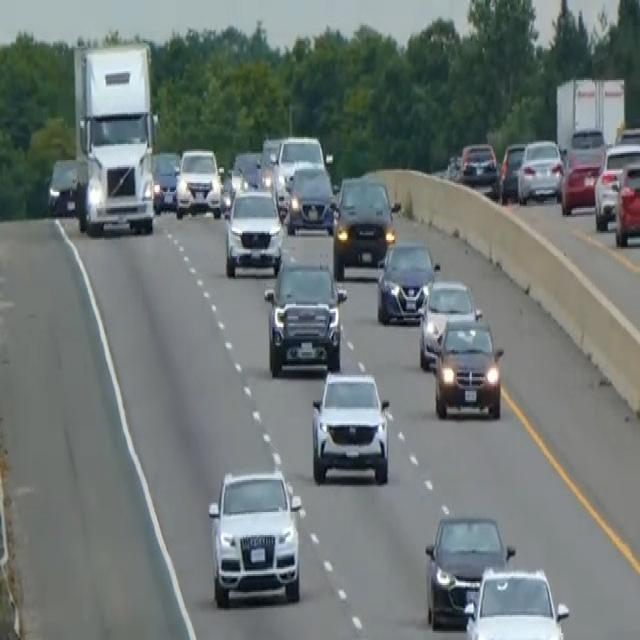car: (207, 466, 303, 608), (423, 512, 514, 629), (263, 252, 347, 377), (310, 368, 391, 485), (464, 564, 569, 638), (433, 311, 504, 420), (331, 172, 397, 276), (418, 276, 478, 370), (375, 237, 438, 326), (223, 185, 283, 277), (273, 133, 325, 215), (593, 139, 639, 229), (560, 126, 606, 214), (285, 158, 334, 235), (174, 146, 222, 218), (516, 137, 563, 204), (613, 157, 639, 247), (46, 156, 78, 217), (460, 140, 498, 190), (151, 150, 179, 212), (498, 140, 525, 201), (230, 149, 262, 192), (259, 135, 282, 189)
lorry: (71, 39, 158, 237)
